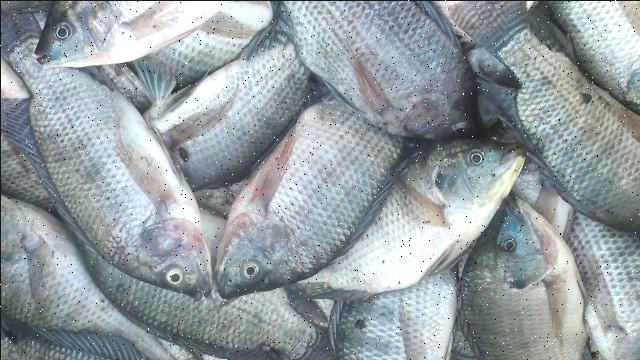Mulut: (490, 130, 538, 174), (211, 264, 241, 312), (492, 190, 532, 222), (184, 273, 216, 305)
Sirip Dada: (98, 125, 185, 221), (254, 110, 318, 218), (332, 40, 403, 128), (376, 160, 456, 236)
Sirip Ekor: (436, 0, 536, 56)
Sirip Punggung: (0, 84, 111, 268)
